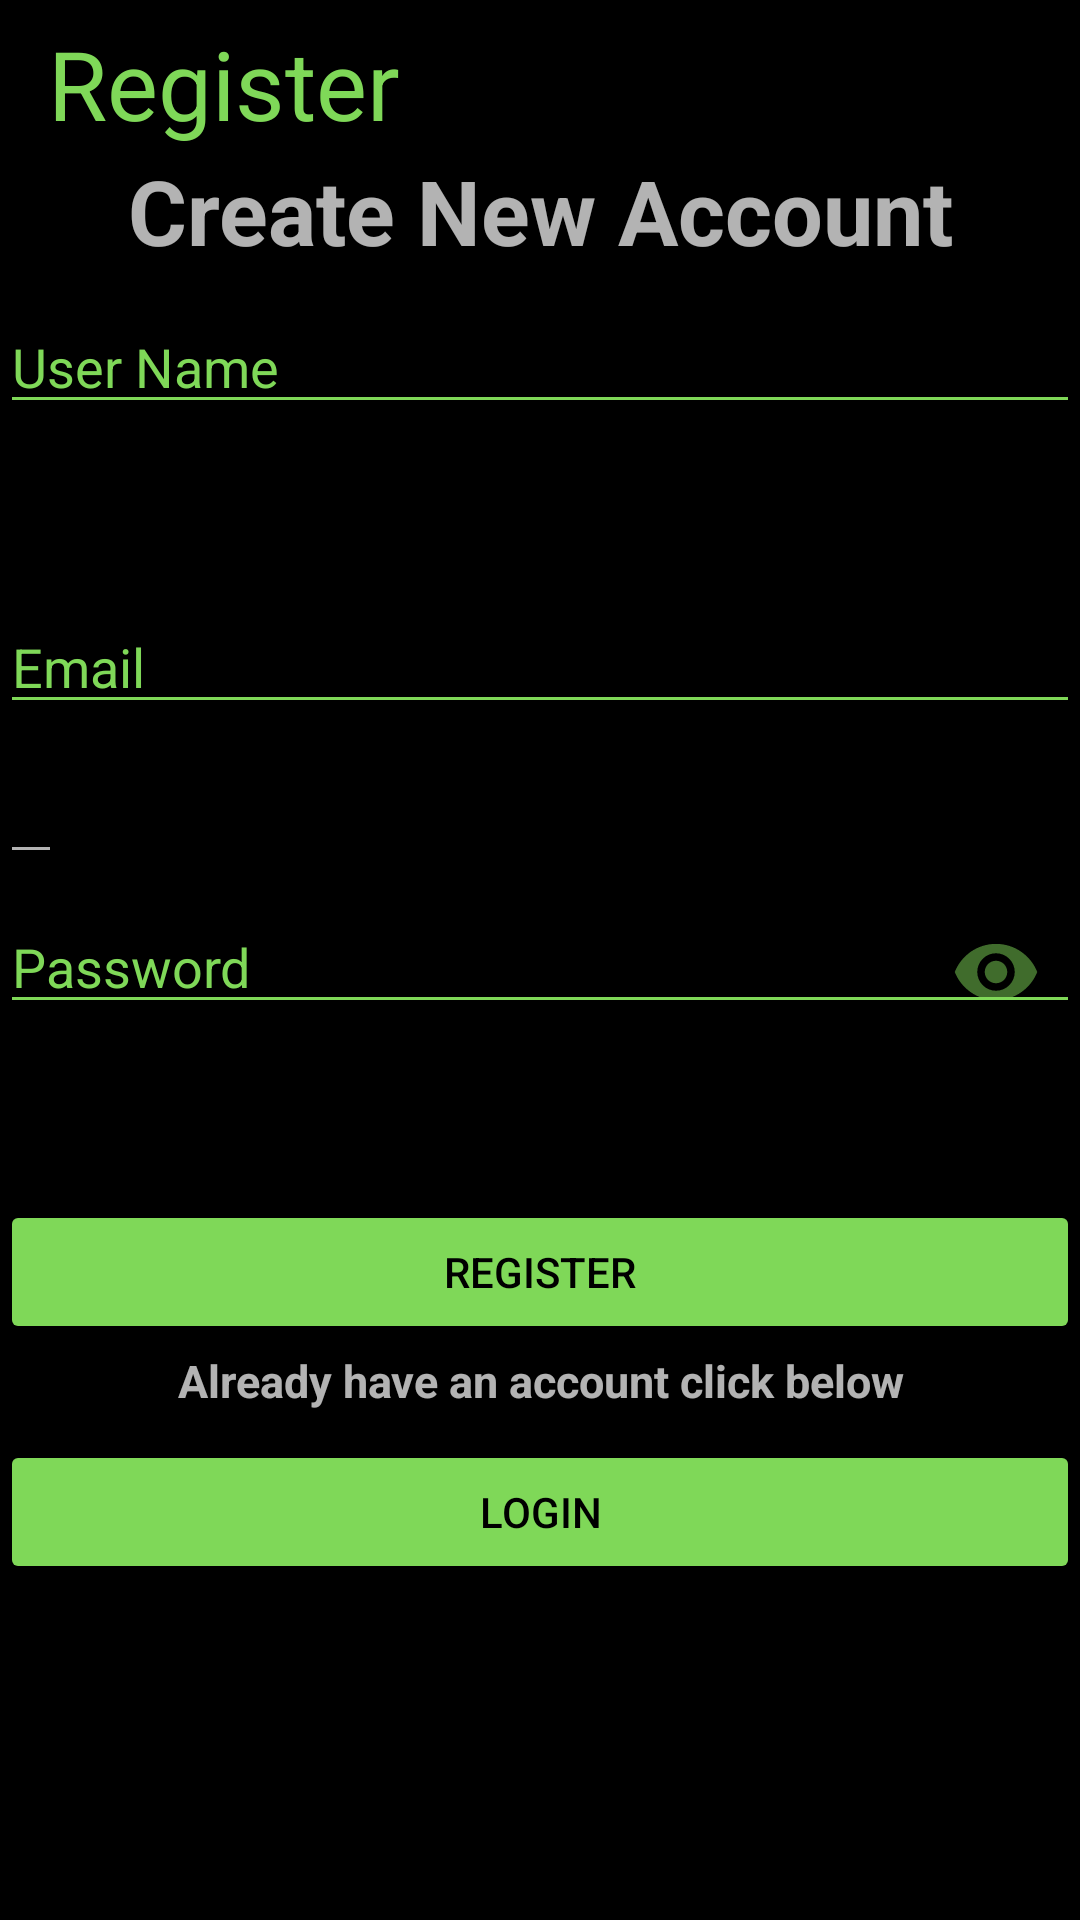

Icon click points for this 1080px x 1920px phone screenshot, format point (x, y):
visible eye: point (996, 972)
